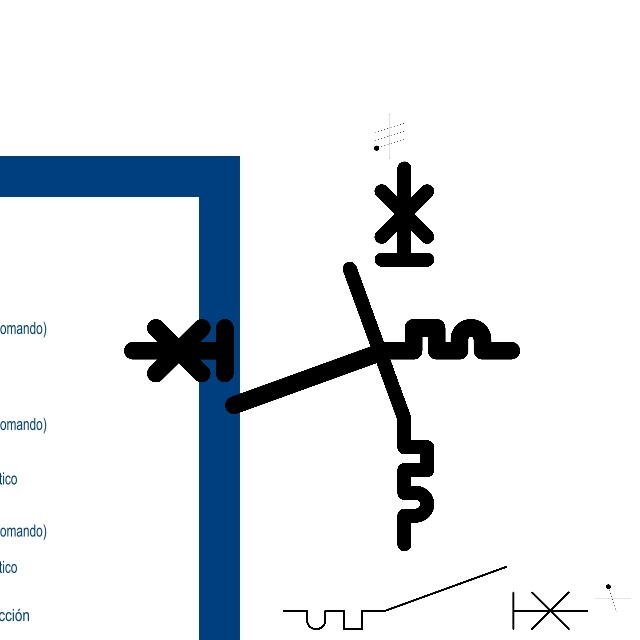interruptor_termomagnetico: (123, 318, 521, 415), (340, 158, 437, 553), (276, 559, 595, 637)
